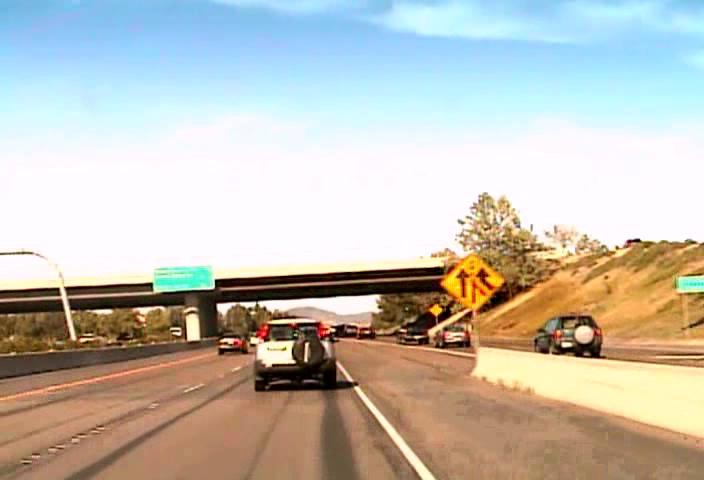addedLane: (440, 253, 504, 310)
